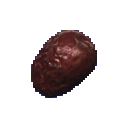gd: (15, 14, 108, 102)
